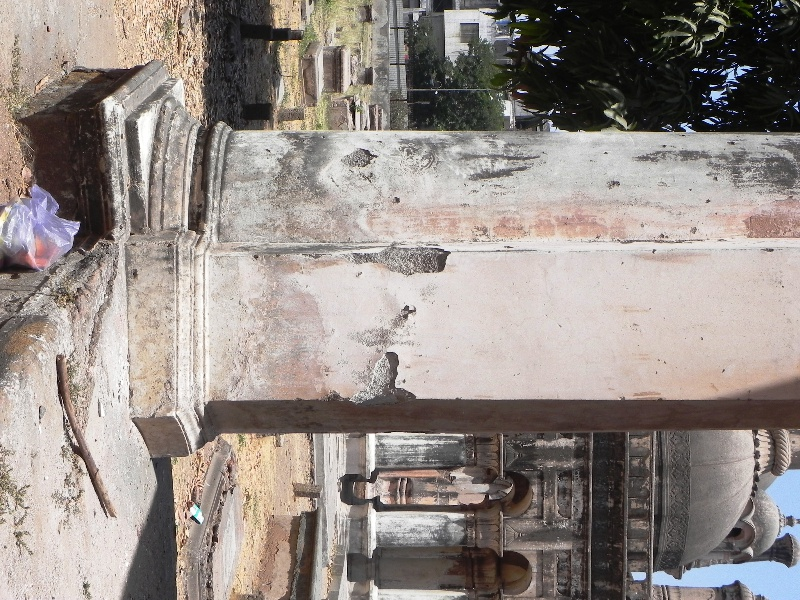Spalling: (341, 346, 420, 412), (342, 237, 459, 279), (329, 142, 379, 175), (392, 299, 421, 334)
